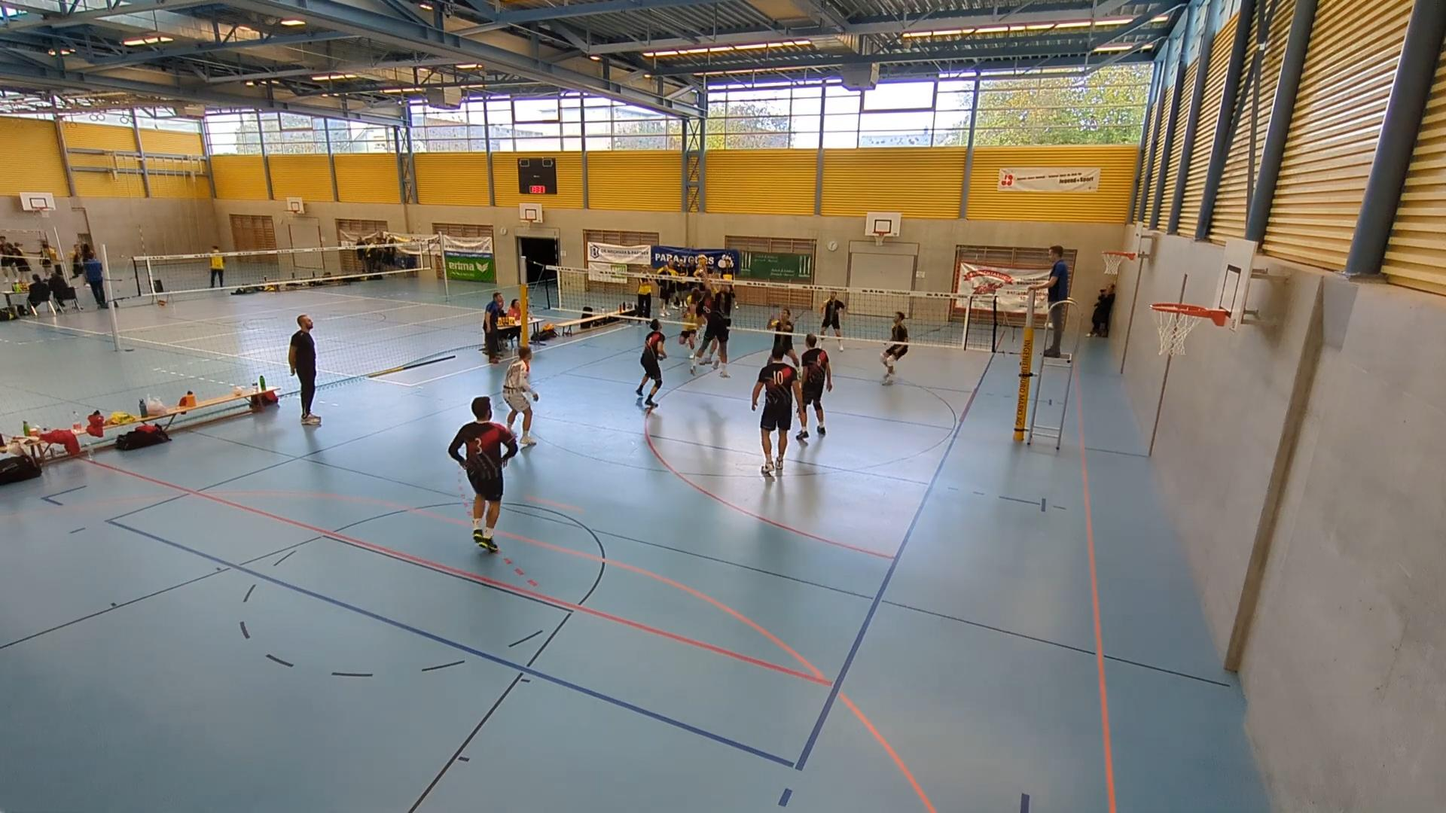muro: (693, 268, 733, 379)
